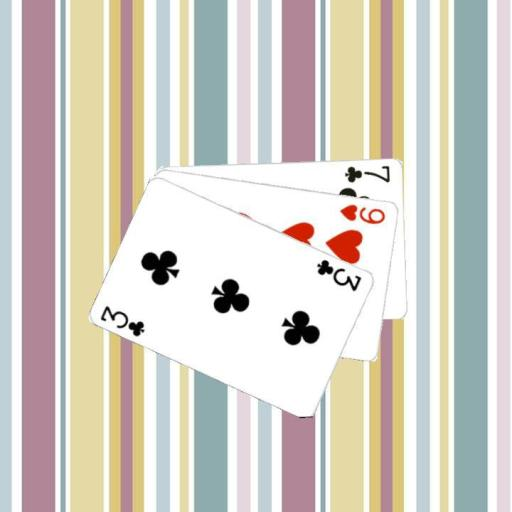3C: (314, 256, 364, 293), (98, 302, 147, 339)
7C: (342, 162, 392, 184)
9H: (337, 201, 388, 226)
